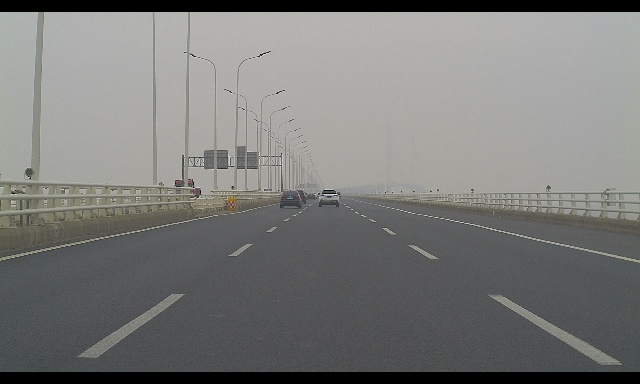car: (279, 190, 302, 208), (318, 189, 340, 207), (292, 190, 307, 203), (306, 193, 316, 200), (335, 191, 341, 198)
truck: (172, 179, 201, 201), (264, 189, 272, 195)
